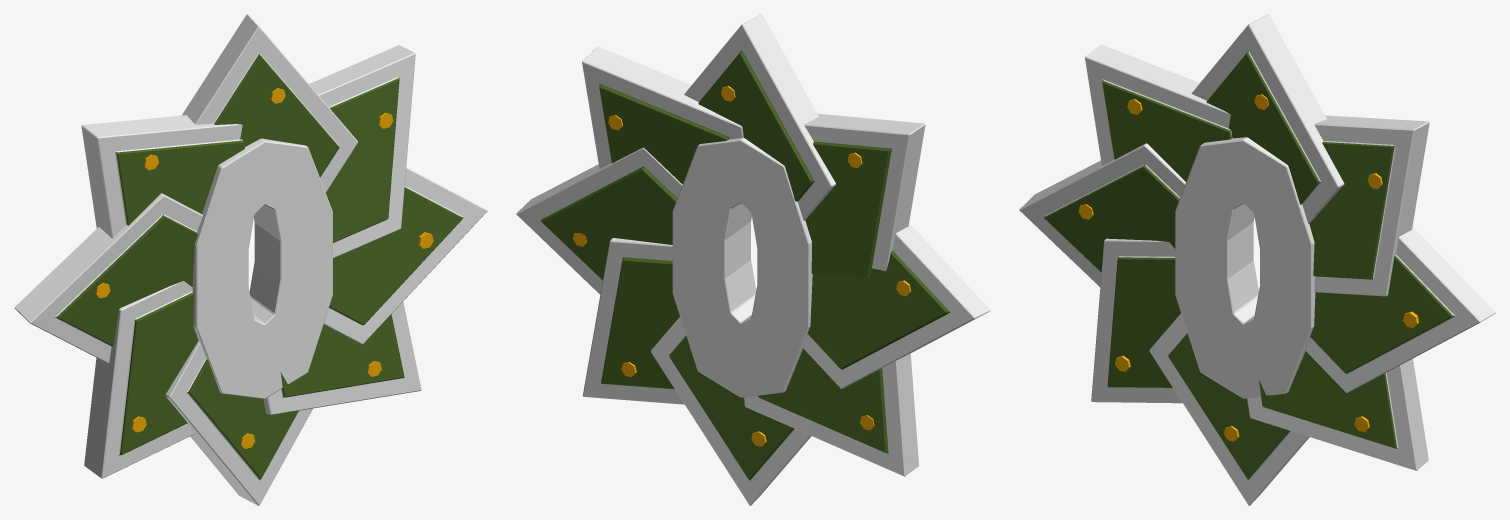
The model's file is guard_wind.glb.
3 views of the same model, side by side, from view 1: azimuth 30°, elevation 25°; view 2: azimuth 150°, elevation 25°; view 3: azimuth 330°, elevation 25° (orthographic).
Parts seen in each view (by area): view 1: Guard; view 2: Guard; view 3: Guard.
Boxes of the visible parts, left/top/right/bottom form: Guard: left=14, top=14, right=487, bottom=505; Guard: left=516, top=14, right=990, bottom=505; Guard: left=1019, top=14, right=1495, bottom=505.
Bounding box in the file's own units: 0.1464 × 0.1463 × 0.0157.
